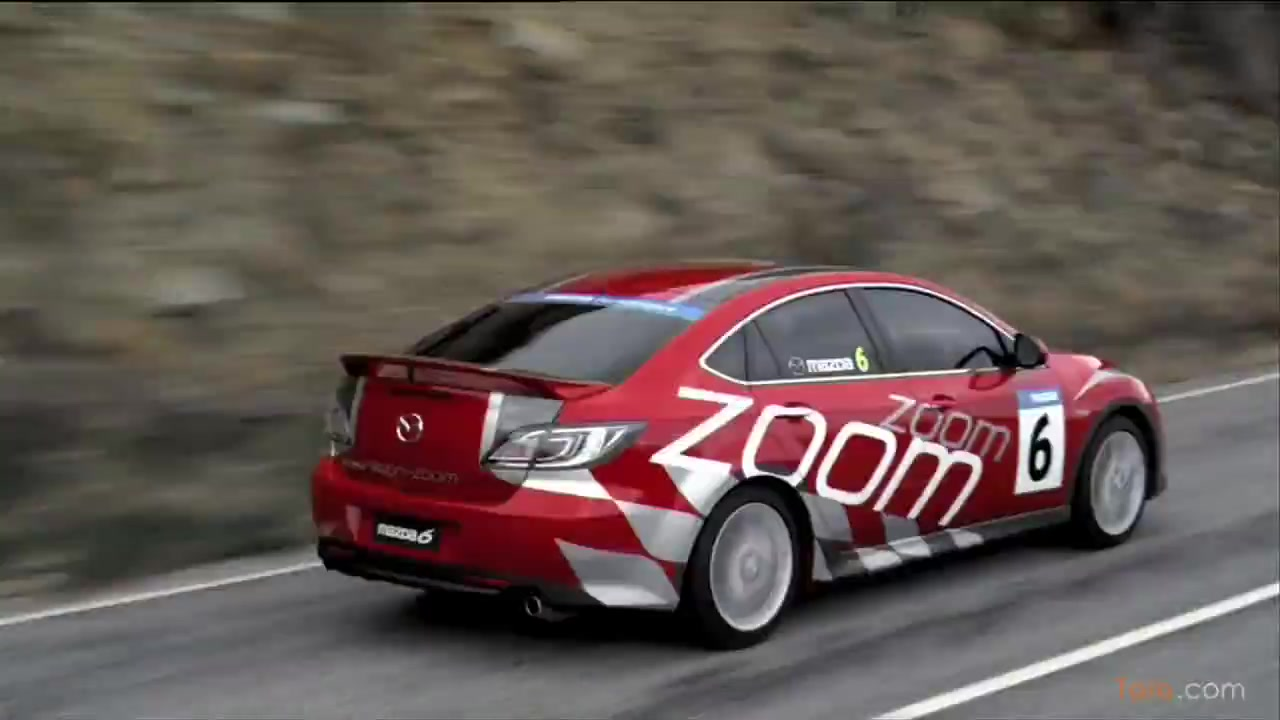car: (309, 254, 1169, 652)
